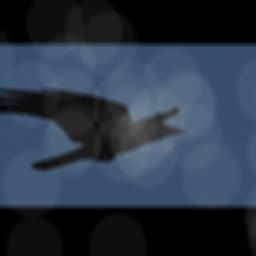Crow: (0, 87, 189, 170)
